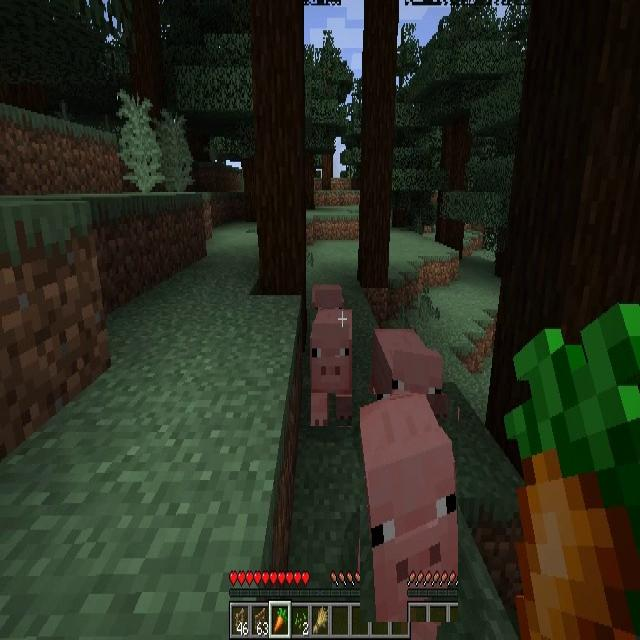pig: (361, 394, 458, 622), (371, 327, 445, 426), (310, 309, 352, 426)
